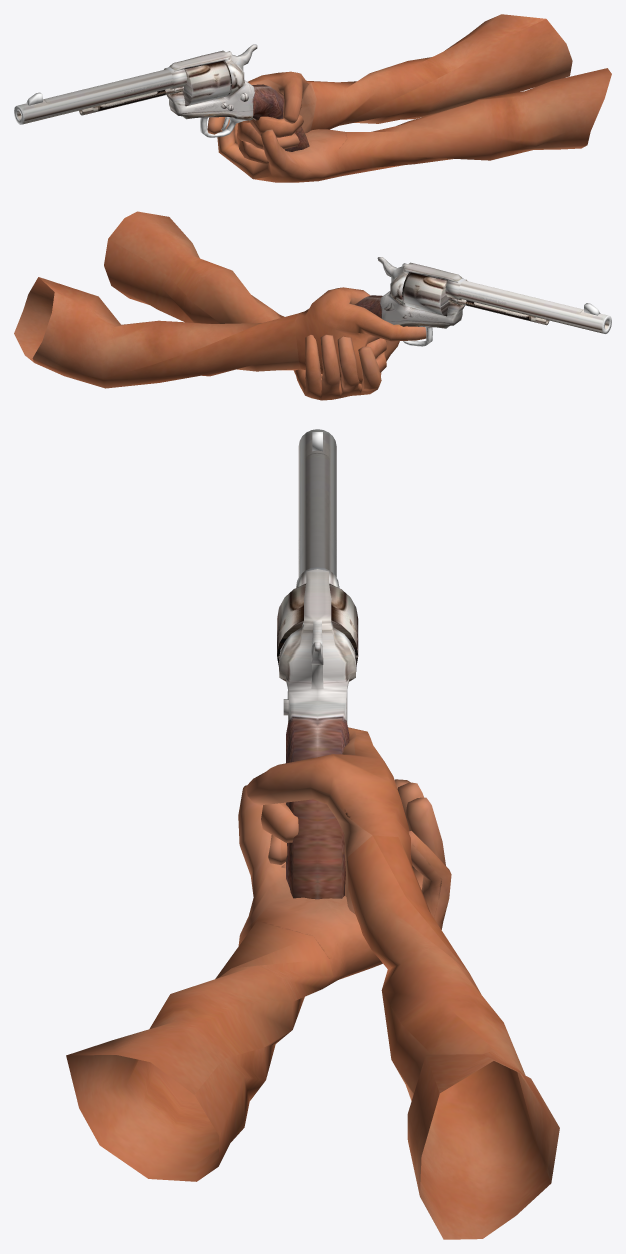
Rendered from Gun-hand.obj.
The picture shows the model from 3 angles, top to bottom: view 1: azimuth 30°, elevation 25°; view 2: azimuth 150°, elevation 25°; view 3: azimuth 270°, elevation 25°; orthographic projection. The views are drawn at different scales.
Parts seen in each view (by area): view 1: polySurface507; view 2: polySurface507; view 3: polySurface507.
Part boxes in pixels (left/top/right/bottom): polySurface507: left=14, top=14, right=611, bottom=182; polySurface507: left=14, top=211, right=611, bottom=400; polySurface507: left=66, top=429, right=559, bottom=1239.
Size of the model in its own units: 5.13 by 1.34 by 1.95.
Materials: 2 (2 with a texture image).
